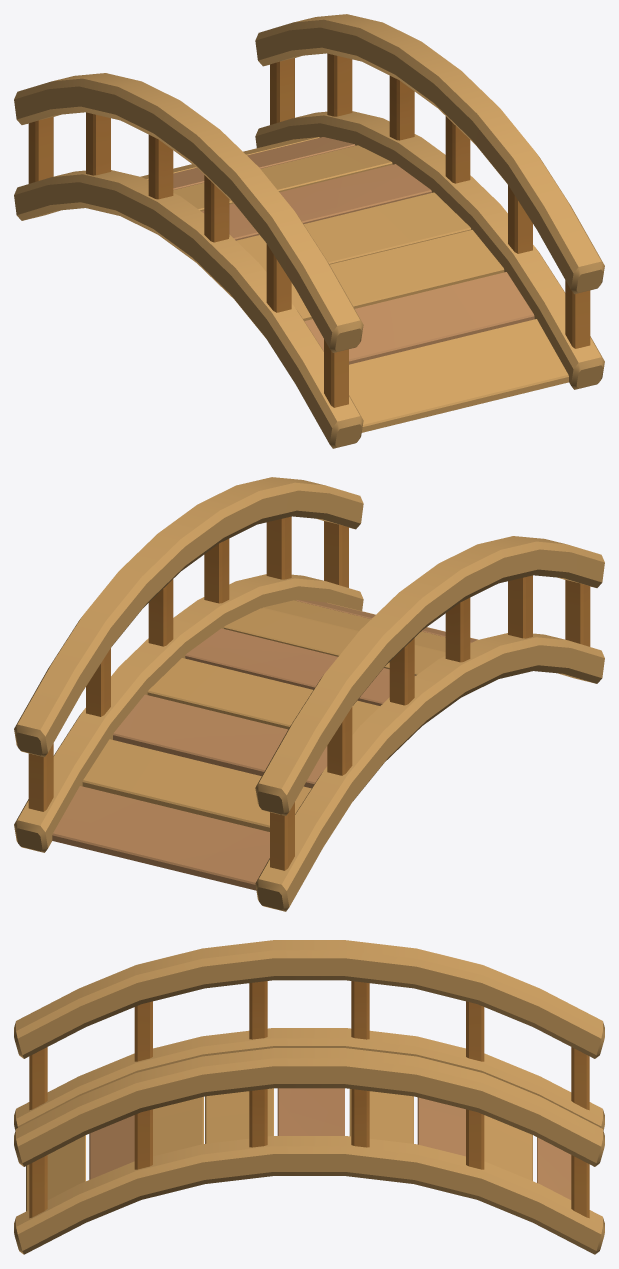
Rendered from Bridge_1_1.fbx.
3 renders of one model, top to bottom at view 1: azimuth 30°, elevation 25°; view 2: azimuth 150°, elevation 25°; view 3: azimuth 270°, elevation 25°, orthographic. The views are drawn at different scales.
Parts seen in each view (by area): view 1: Bridge_1_1; view 2: Bridge_1_1; view 3: Bridge_1_1.
Part boxes in pixels (<box>): Bridge_1_1: <box>14,14,604,448</box>; Bridge_1_1: <box>14,477,604,911</box>; Bridge_1_1: <box>14,940,604,1254</box>.
Size of the model in its own units: 200 by 150 by 409.
